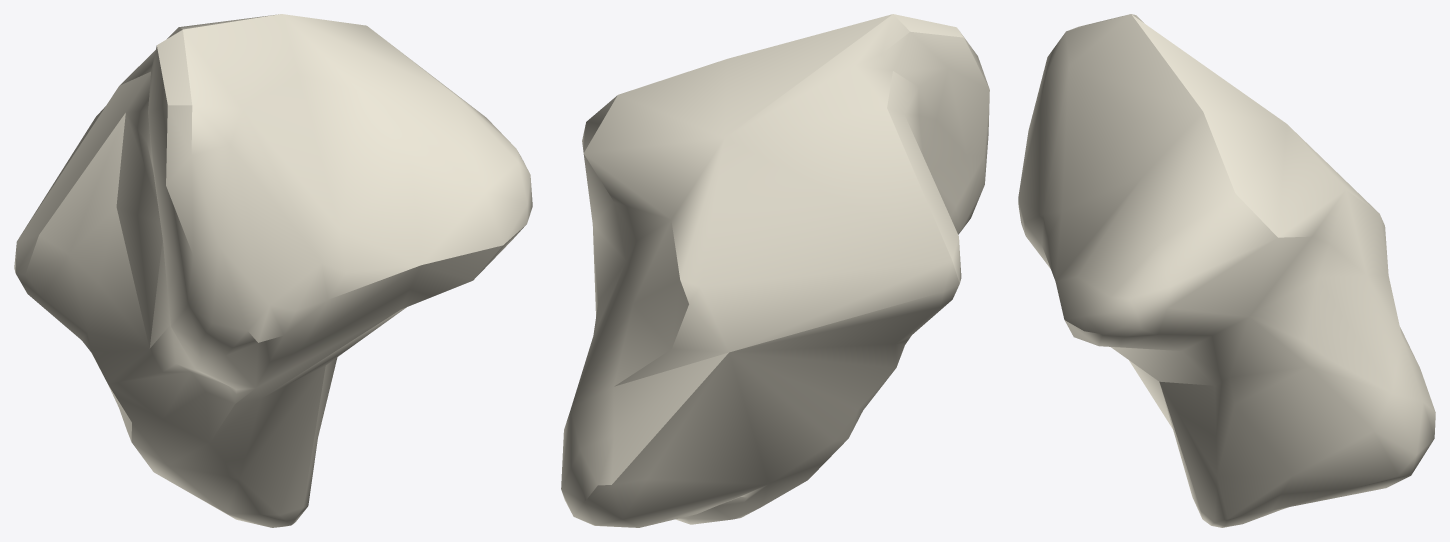
Rendered from fma24444_fj3283.glb.
3 renders of one model, left to right at view 1: azimuth 30°, elevation 25°; view 2: azimuth 150°, elevation 25°; view 3: azimuth 270°, elevation 25°, orthographic. The views are drawn at different scales.
Visible parts, largest first — view 1: FMA24444_FJ3283; view 2: FMA24444_FJ3283; view 3: FMA24444_FJ3283.
Boxes of the visible parts, left/top/right/bottom form: FMA24444_FJ3283: left=14, top=14, right=532, bottom=527; FMA24444_FJ3283: left=561, top=14, right=989, bottom=527; FMA24444_FJ3283: left=1018, top=14, right=1435, bottom=527.
Bounding box in the file's own units: 0.017 × 0.02 × 0.0168.
